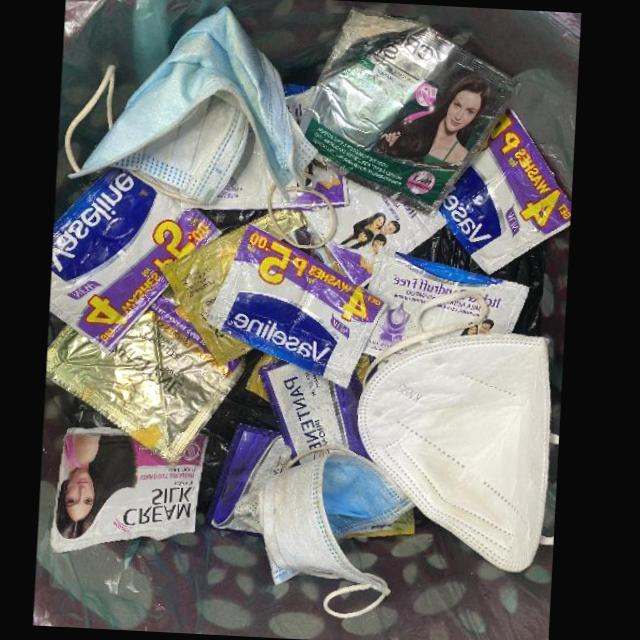goi_nhua_nho: (303, 8, 520, 217), (46, 285, 246, 464), (49, 167, 222, 354), (205, 223, 389, 389), (438, 107, 571, 274), (50, 426, 208, 553), (363, 246, 530, 357), (304, 181, 447, 285), (161, 224, 254, 366), (259, 360, 372, 461), (205, 424, 292, 526)
khau_trang: (357, 290, 551, 572), (64, 4, 321, 204), (263, 453, 415, 595)
